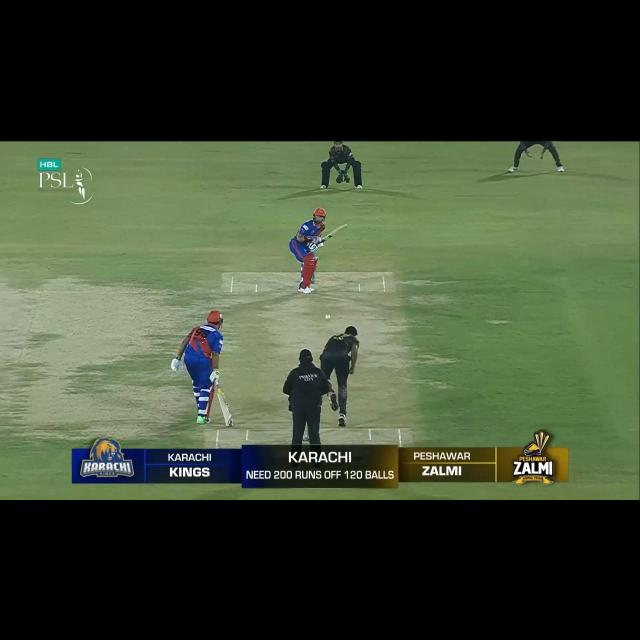bat: (215, 391, 235, 429), (321, 222, 347, 245)
toe: (333, 222, 347, 234), (225, 414, 234, 427)
